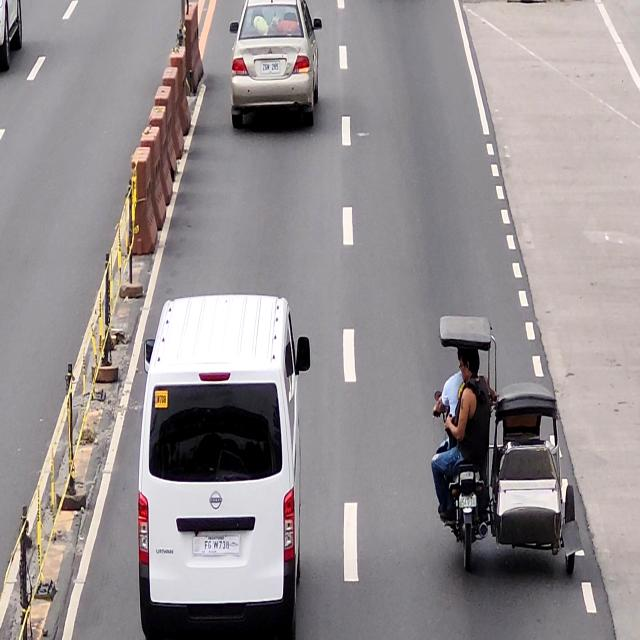Car: (137, 292, 311, 640), (228, 0, 323, 129)
License-Plate: (192, 535, 240, 557), (459, 490, 477, 510), (260, 60, 282, 73)
Tricycle: (432, 309, 580, 582)
